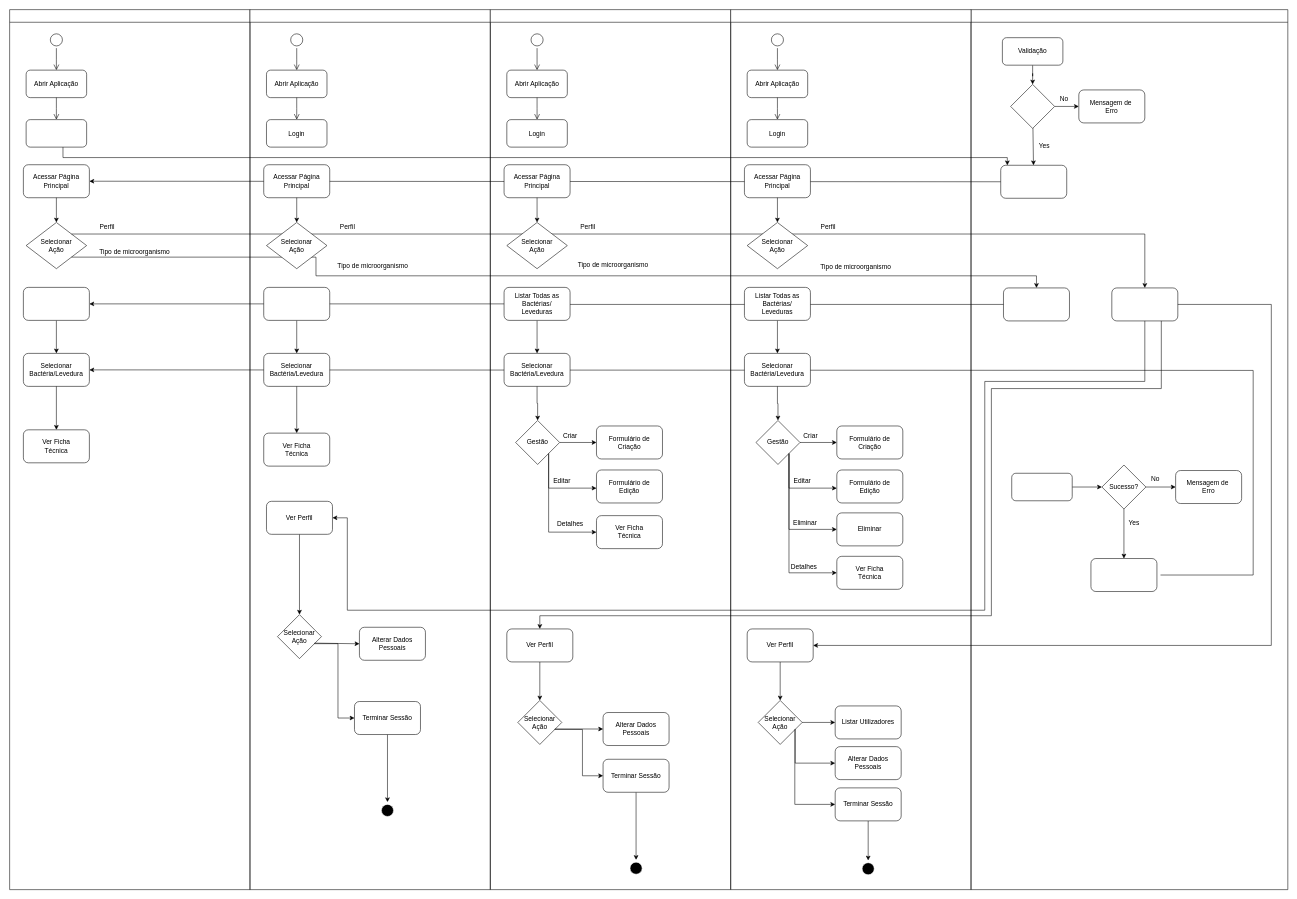
The diagram is 1297 pixels wide and 899 high, and some of its shapes have lost their labels. The shapes that lost their labels are listed below. From the top down, each one's box as (x1, y1, x2, y2) in pixels, then its label:
(1010, 84, 1055, 128): User Válido?
(26, 119, 87, 147): Ver Coleções Públicas
(1000, 165, 1067, 198): Microorganismo Data Call
(23, 287, 89, 320): Listar Bactérias/ Leveduras Públicas
(263, 287, 330, 320): Listar Bactérias/ Leveduras Autorizadas
(1003, 287, 1069, 321): Bactérias/Leveduras Data Call
(1111, 287, 1178, 321): Perfil Data Call
(9, 9, 250, 890): Não Autenticado
(249, 9, 490, 890): Autenticado
(490, 9, 731, 890): Admin
(730, 9, 971, 890): Super Admin
(970, 9, 1288, 890): Sistema
(1011, 473, 1072, 501): Respetivas Data Calls
(1090, 558, 1157, 592): Mensagem de Sucesso
